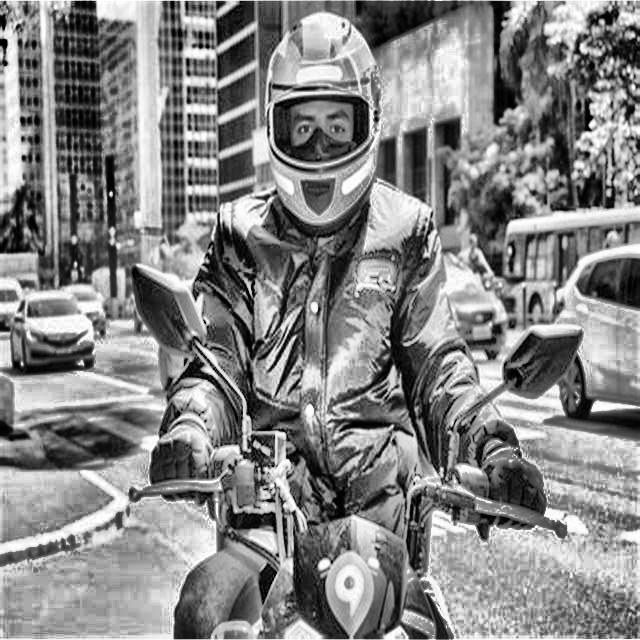Helmet: (262, 6, 382, 242)
